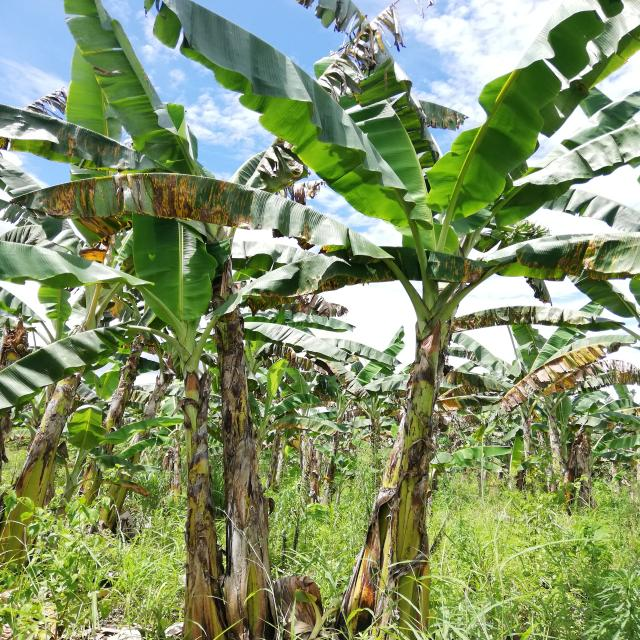Banana-plant: (345, 283, 480, 636), (204, 231, 281, 639), (150, 321, 220, 640)
